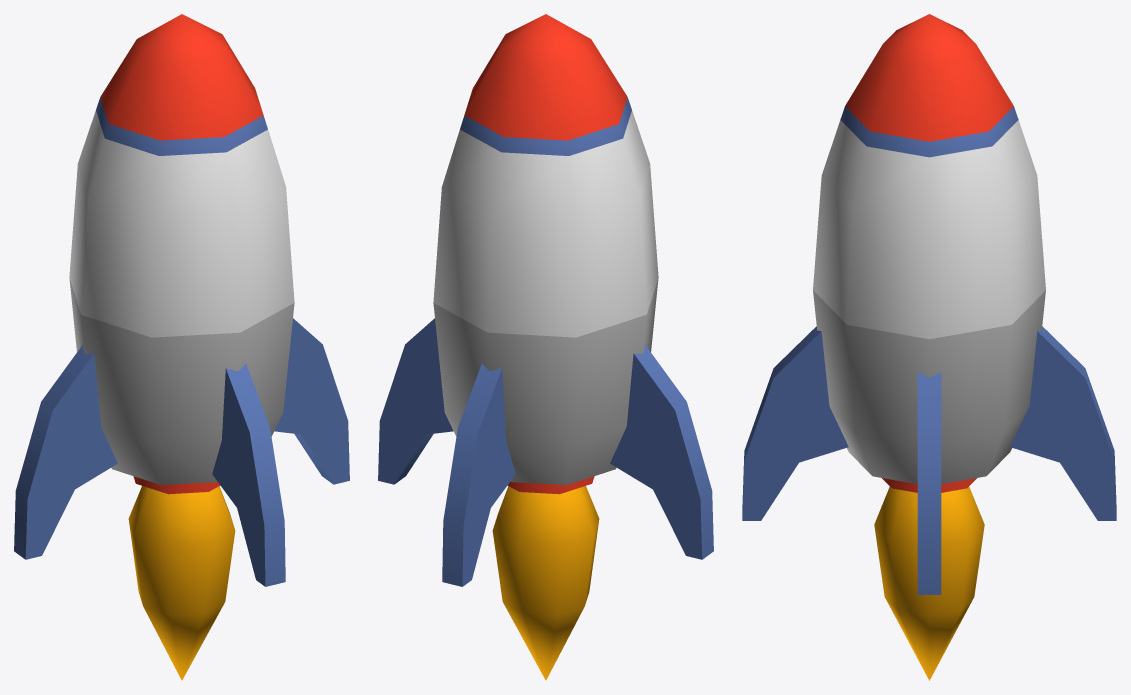
The model's file is Rocket.FBX.
3 renders of one model, left to right at view 1: azimuth 30°, elevation 25°; view 2: azimuth 150°, elevation 25°; view 3: azimuth 270°, elevation 25°, orthographic.
Visible parts, largest first — view 1: Line002; view 2: Line002; view 3: Line002.
Boxes of the visible parts, <box> form: Line002: <box>14,14,349,680</box>; Line002: <box>378,14,713,680</box>; Line002: <box>742,14,1116,680</box>.
Size of the model in its own units: 31.97 by 62.83 by 31.97.
